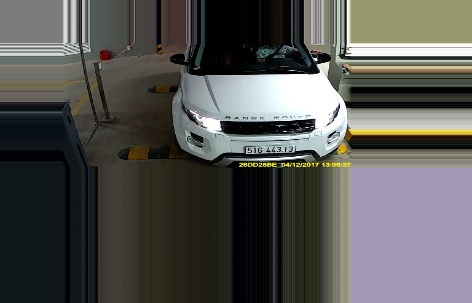plate: (245, 143, 294, 153)
